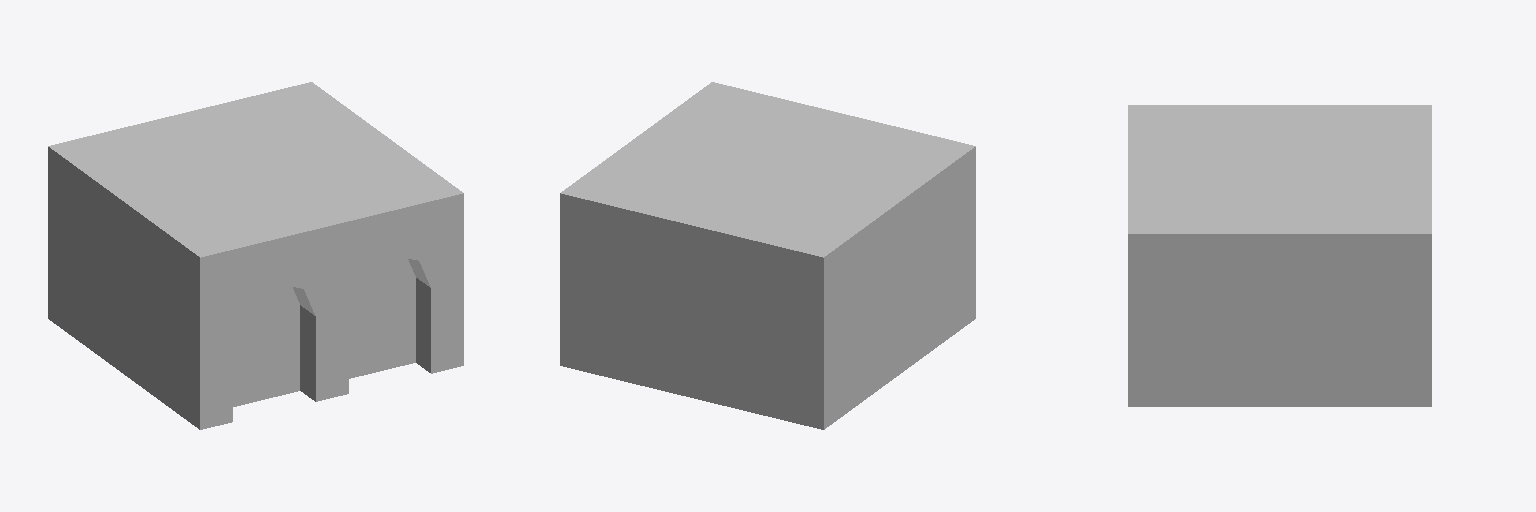
Rendered from building-windows-high-top-round.obj.
The picture shows the model from 3 angles: view 1: azimuth 30°, elevation 25°; view 2: azimuth 150°, elevation 25°; view 3: azimuth 270°, elevation 25°; orthographic projection.
Parts seen in each view (by area): view 1: building-windows-high-top-round; view 2: building-windows-high-top-round; view 3: building-windows-high-top-round.
Boxes of the visible parts, x1=… form: building-windows-high-top-round: x1=48, y1=82, x2=463, y2=429; building-windows-high-top-round: x1=560, y1=82, x2=975, y2=429; building-windows-high-top-round: x1=1128, y1=105, x2=1431, y2=406.
Size of the model in its own units: 1 by 0.625 by 1.